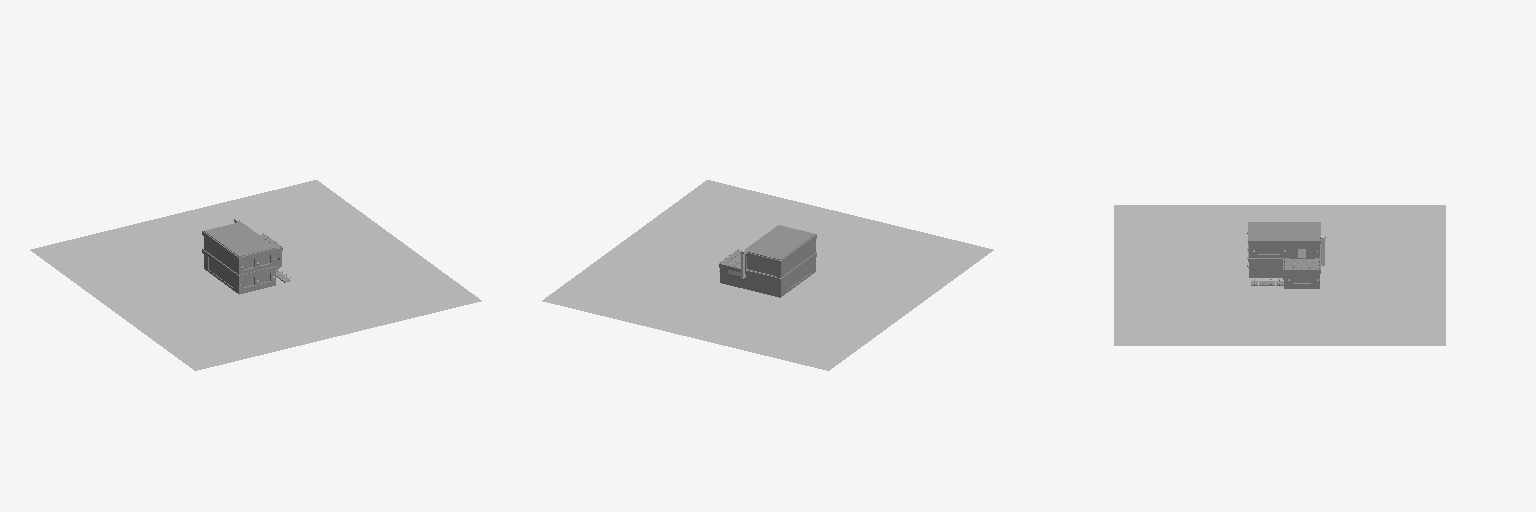
Rendered from house.obj.
3 views of the same model, side by side, from view 1: azimuth 30°, elevation 25°; view 2: azimuth 150°, elevation 25°; view 3: azimuth 270°, elevation 25° (orthographic).
Visible parts, largest first — view 1: Plane.002_Plane.004, Cube.003_Cube.008; view 2: Plane.002_Plane.004, Cube.003_Cube.008; view 3: Plane.002_Plane.004, Cube.003_Cube.008.
Part boxes in pixels (x1,y1,x2,y2): Plane.002_Plane.004: (30, 180, 481, 370); Cube.003_Cube.008: (202, 222, 290, 294); Plane.002_Plane.004: (542, 180, 993, 370); Cube.003_Cube.008: (719, 225, 816, 297); Plane.002_Plane.004: (1114, 205, 1445, 345); Cube.003_Cube.008: (1248, 222, 1320, 288).
Bounding box in the file's own units: 63.01 × 8.49 × 63.01.